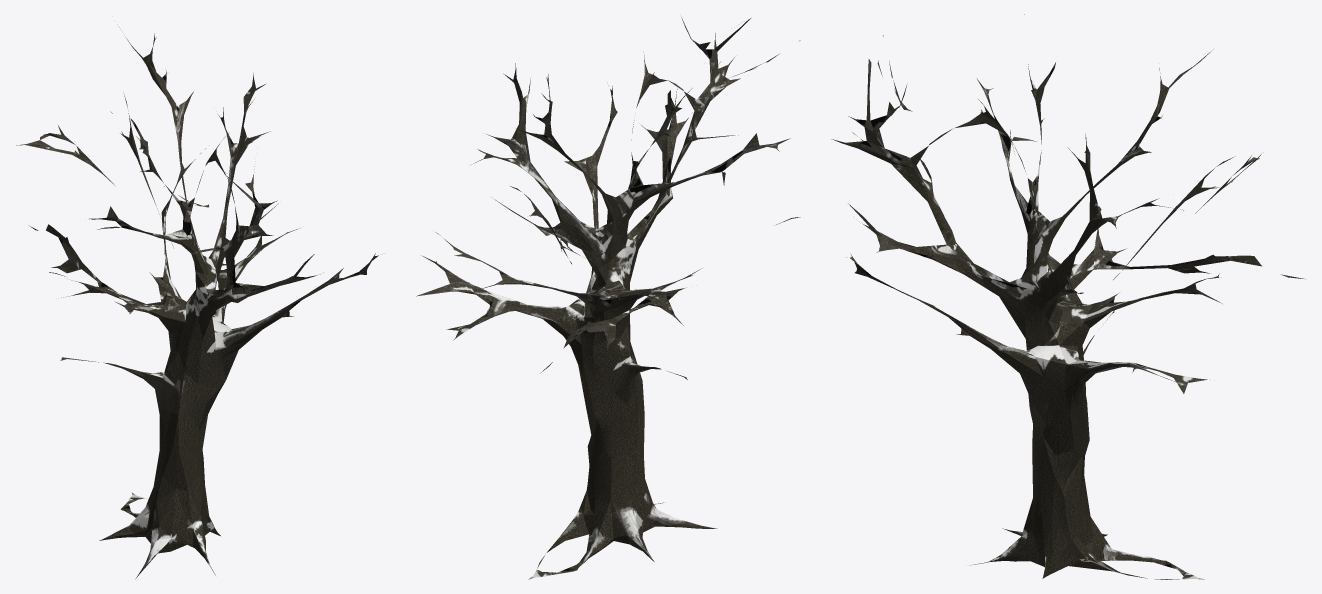
File: tree_snow_a.glb
3 views of the same model, side by side, from view 1: azimuth 30°, elevation 25°; view 2: azimuth 150°, elevation 25°; view 3: azimuth 270°, elevation 25° (orthographic). The views are drawn at different scales.
Parts seen in each view (by area): view 1: output_unwrapped; view 2: output_unwrapped; view 3: output_unwrapped.
Boxes of the visible parts, left/top/right/bottom form: output_unwrapped: left=16, top=27, right=378, bottom=579; output_unwrapped: left=416, top=17, right=800, bottom=579; output_unwrapped: left=831, top=14, right=1305, bottom=579.
Bounding box in the file's own units: 1.18 × 1.73 × 1.43.
1 material, 1 textured.
